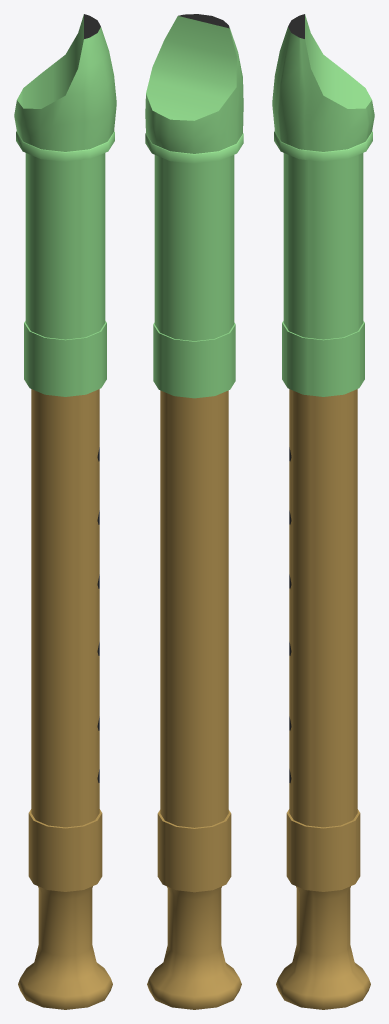
The model's file is Flauta.fbx.
3 renders of one model, left to right at view 1: azimuth 90°, elevation 25°; view 2: azimuth 150°, elevation 25°; view 3: azimuth 270°, elevation 25°, orthographic.
Parts seen in each view (by area): view 1: Flauta; view 2: Flauta; view 3: Flauta.
Boxes of the visible parts, left/top/right/bottom form: Flauta: left=14, top=14, right=116, bottom=1009; Flauta: left=145, top=14, right=243, bottom=1009; Flauta: left=272, top=14, right=374, bottom=1009.
Size of the model in its own units: 5.38 by 57.86 by 5.58.
